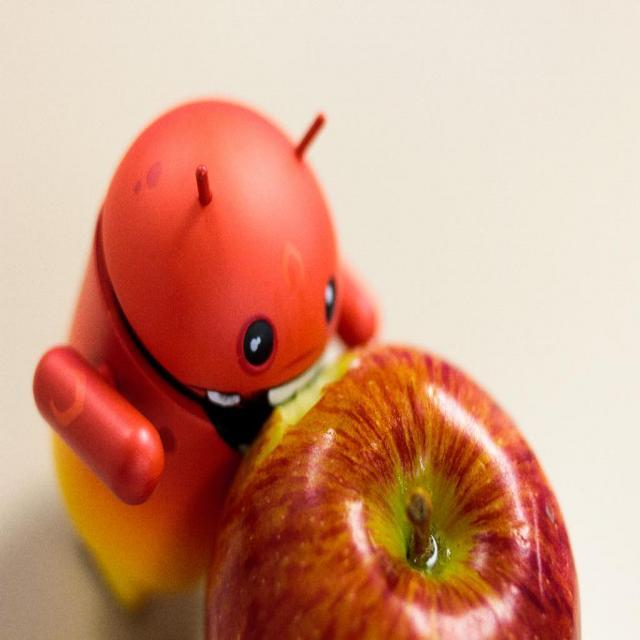Apple pie: (202, 336, 572, 640)
